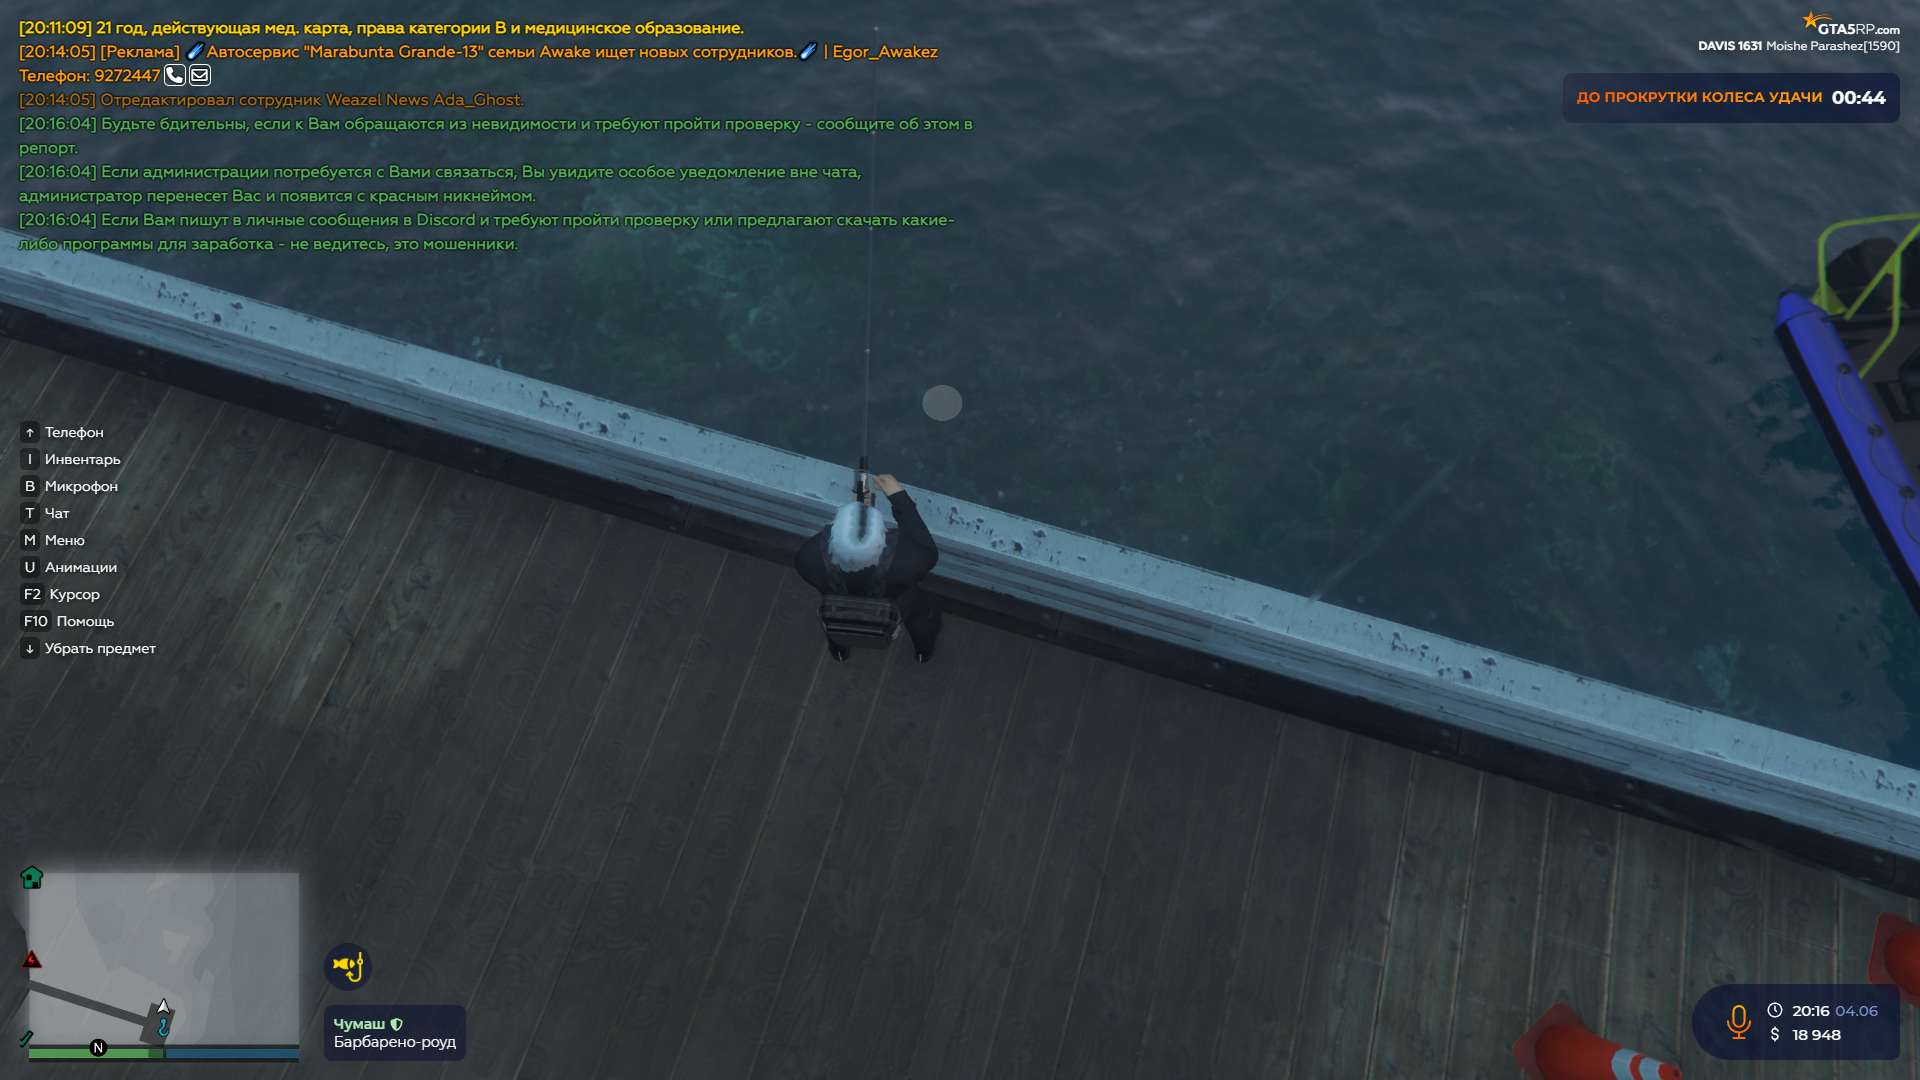circle: (920, 384, 963, 422)
